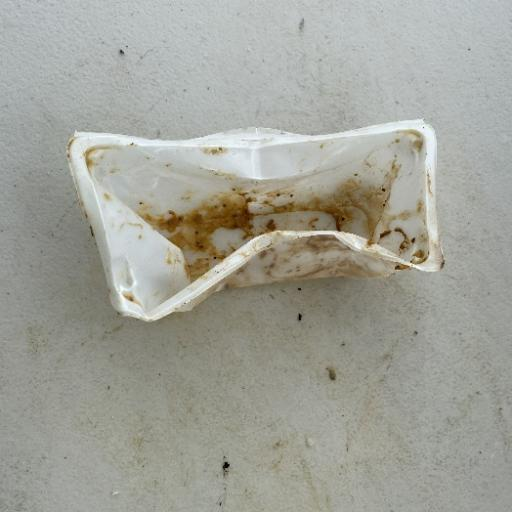Plastic: (64, 116, 446, 324)
